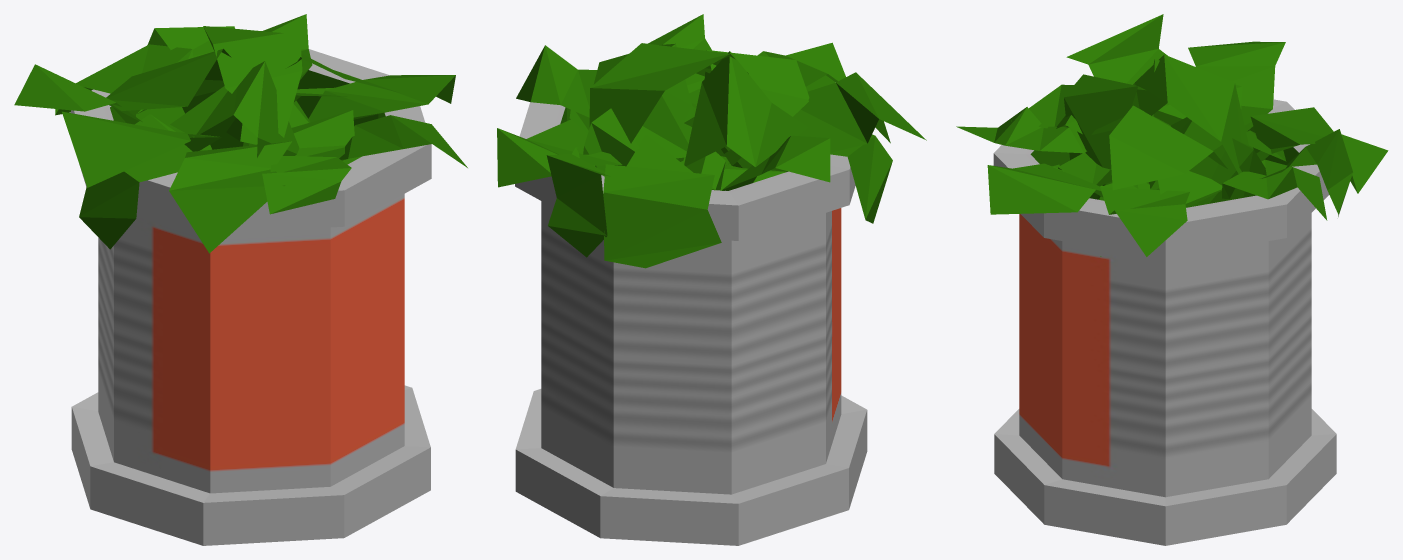
Rendered from spinat.fbx.
3 renders of one model, left to right at view 1: azimuth 30°, elevation 25°; view 2: azimuth 150°, elevation 25°; view 3: azimuth 270°, elevation 25°, orthographic. The views are drawn at different scales.
Visible parts, largest first — view 1: spinach1; view 2: spinach1; view 3: spinach1.
Part boxes in pixels (<box>): spinach1: <box>14,14,467,545</box>; spinach1: <box>497,14,926,545</box>; spinach1: <box>956,14,1388,545</box>.
Bounding box in the file's own units: 0.00629 × 0.00669 × 0.00654.
